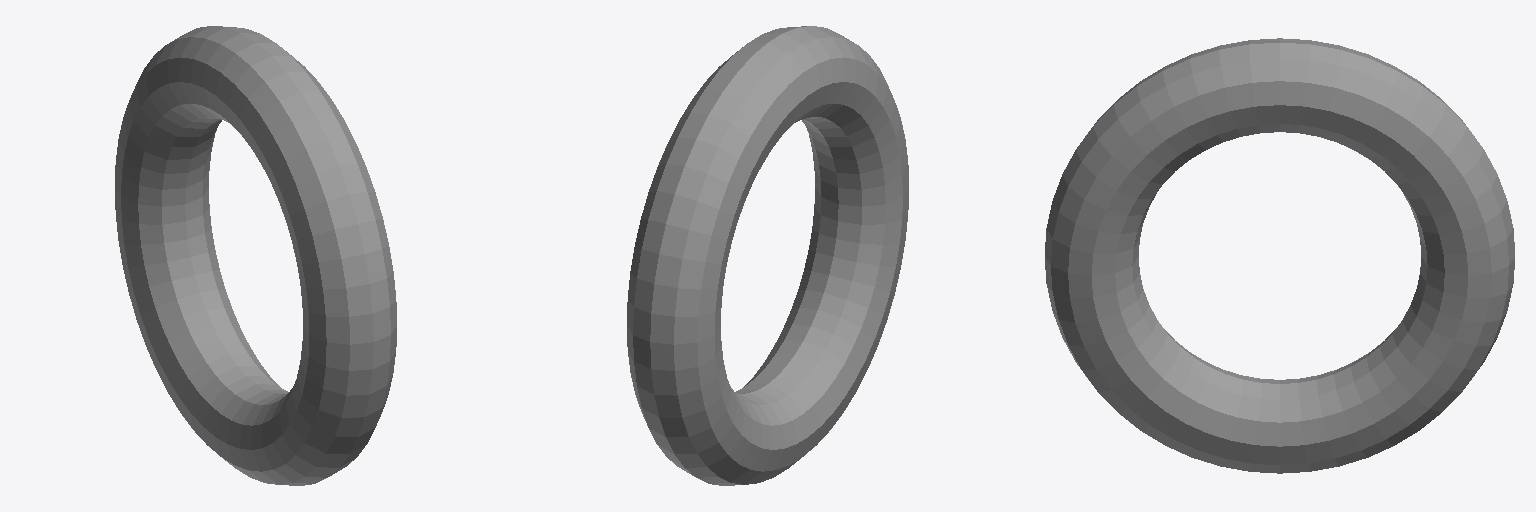
File: former_ring.obj
3 views of the same model, side by side, from view 1: azimuth 30°, elevation 25°; view 2: azimuth 150°, elevation 25°; view 3: azimuth 270°, elevation 25° (orthographic).
Parts seen in each view (by area): view 1: Torus.001; view 2: Torus.001; view 3: Torus.001.
Boxes of the visible parts, box(x1,y1,x2,y2) form: Torus.001: box(115, 26, 396, 485); Torus.001: box(627, 26, 908, 485); Torus.001: box(1045, 38, 1514, 473).
Bounding box in the file's own units: 0.2 × 1 × 1.